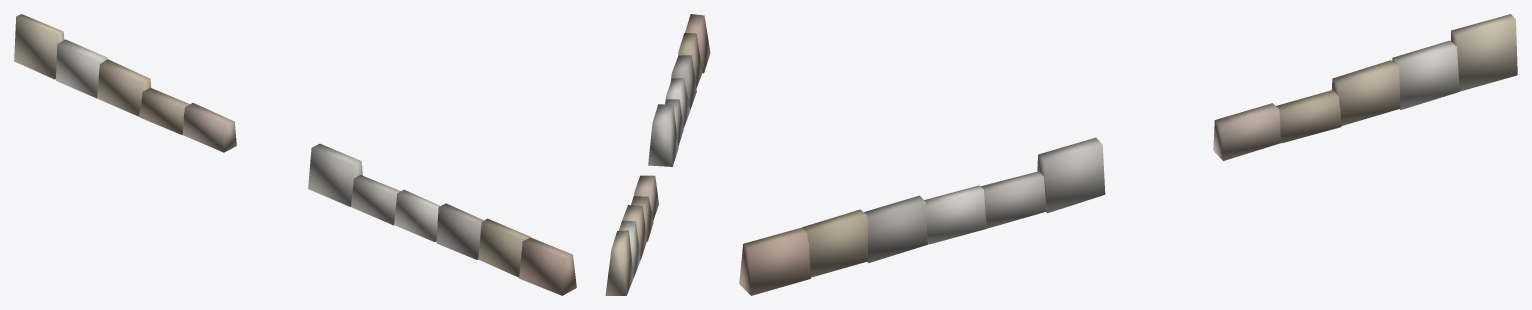
File: farm_-5_7_far.glb
The picture shows the model from 3 angles, left to right: view 1: azimuth 30°, elevation 25°; view 2: azimuth 150°, elevation 25°; view 3: azimuth 270°, elevation 25°; orthographic projection. The views are drawn at different scales.
Visible parts, largest first — view 1: geometry_0; view 2: geometry_0; view 3: geometry_0.
Boxes of the visible parts, x1,y1,x2,y2 form: geometry_0: (14, 14, 576, 295); geometry_0: (605, 14, 710, 295); geometry_0: (739, 14, 1517, 295).
Bounding box in the file's own units: 8.74 × 3.49 × 18.81.
